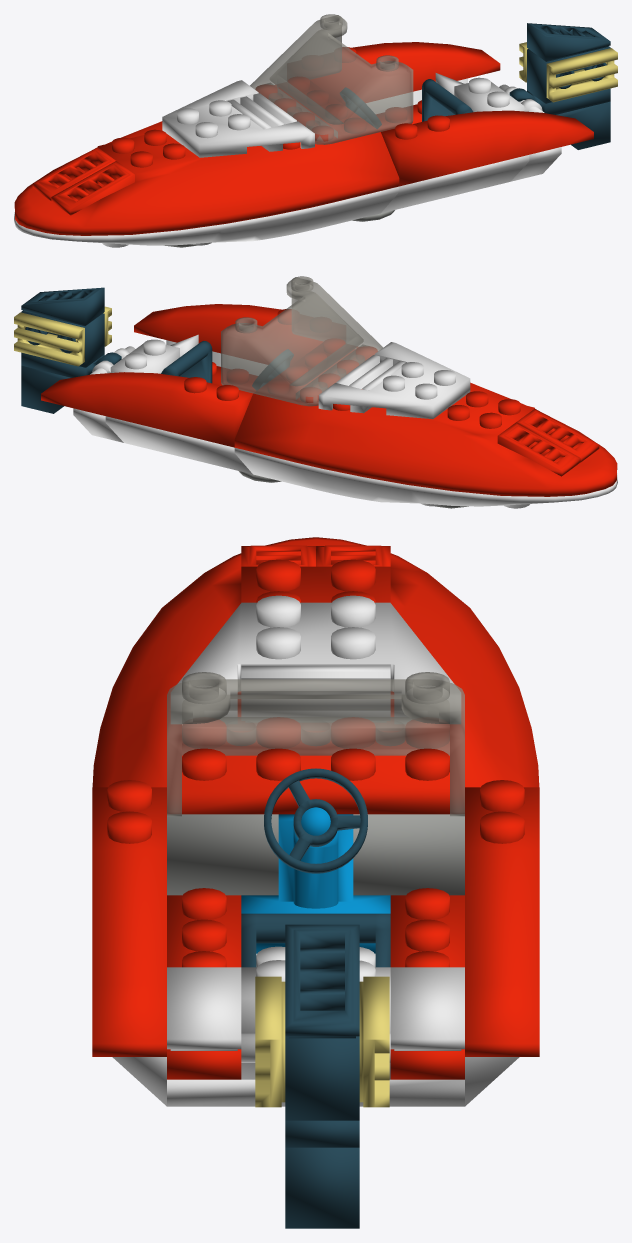
Rendered from boat.dae.
3 renders of one model, top to bottom at view 1: azimuth 30°, elevation 25°; view 2: azimuth 150°, elevation 25°; view 3: azimuth 270°, elevation 25°, orthographic. The views are drawn at different scales.
Visible parts, largest first — view 1: _7615_dat, _7783_dat, _2022_dat, _2022_dat_001, _7611_dat, _8183_dat, _0219_dat, _412b_dat, _1409_dat, _1409_dat_001, _1409_dat_002, _004_DAT (+9 smaller); view 2: _7615_dat, _7783_dat, _2022_dat_001, _2022_dat, _7611_dat, _8183_dat, _0219_dat, _412b_dat_002, _1409_dat, _1409_dat_002, _1409_dat_001, _004_DAT (+9 smaller); view 3: _7615_dat, _7783_dat, _2022_dat_001, _2022_dat, _010_dat, _8183_dat, _1409_dat, _666_dat_001, _666_dat, _829a_dat, _2501_dat, _412b_dat_001 (+12 smaller).
Boxes of the visible parts, left/top/right/bottom form: _7615_dat: left=14, top=77, right=399, bottom=235; _7783_dat: left=250, top=14, right=413, bottom=144; _2022_dat: left=381, top=110, right=593, bottom=186; _2022_dat_001: left=311, top=42, right=500, bottom=104; _7611_dat: left=14, top=186, right=399, bottom=247; _8183_dat: left=162, top=80, right=314, bottom=157; _0219_dat: left=366, top=89, right=529, bottom=213; _412b_dat: left=546, top=48, right=617, bottom=102; _1409_dat: left=527, top=23, right=610, bottom=61; _1409_dat_001: left=51, top=161, right=134, bottom=215; _1409_dat_002: left=32, top=147, right=115, bottom=200; _004_DAT: left=454, top=77, right=524, bottom=111; _7615_dat: left=234, top=338, right=617, bottom=496; _7783_dat: left=221, top=276, right=383, bottom=406; _2022_dat_001: left=41, top=372, right=252, bottom=447; _2022_dat: left=134, top=304, right=322, bottom=365; _7611_dat: left=234, top=448, right=617, bottom=508; _8183_dat: left=318, top=342, right=470, bottom=419; _0219_dat: left=105, top=351, right=267, bottom=474; _412b_dat_002: left=14, top=312, right=84, bottom=366; _1409_dat: left=21, top=287, right=104, bottom=325; _1409_dat_002: left=497, top=422, right=580, bottom=476; _1409_dat_001: left=516, top=409, right=599, bottom=461; _004_DAT: left=110, top=339, right=179, bottom=373; _7615_dat: left=92, top=537, right=539, bottom=814; _7783_dat: left=167, top=672, right=464, bottom=816; _2022_dat_001: left=465, top=780, right=539, bottom=1056; _2022_dat: left=92, top=780, right=166, bottom=1056; _010_dat: left=167, top=814, right=464, bottom=895; _8183_dat: left=171, top=595, right=460, bottom=723; _1409_dat: left=285, top=924, right=359, bottom=1038; _666_dat_001: left=167, top=888, right=241, bottom=1079; _666_dat: left=390, top=888, right=464, bottom=1079; _829a_dat: left=241, top=807, right=390, bottom=953; _2501_dat: left=112, top=1057, right=519, bottom=1106; _412b_dat_001: left=241, top=665, right=390, bottom=716.
Size of the model in its own units: 18 by 6 by 4.61.
